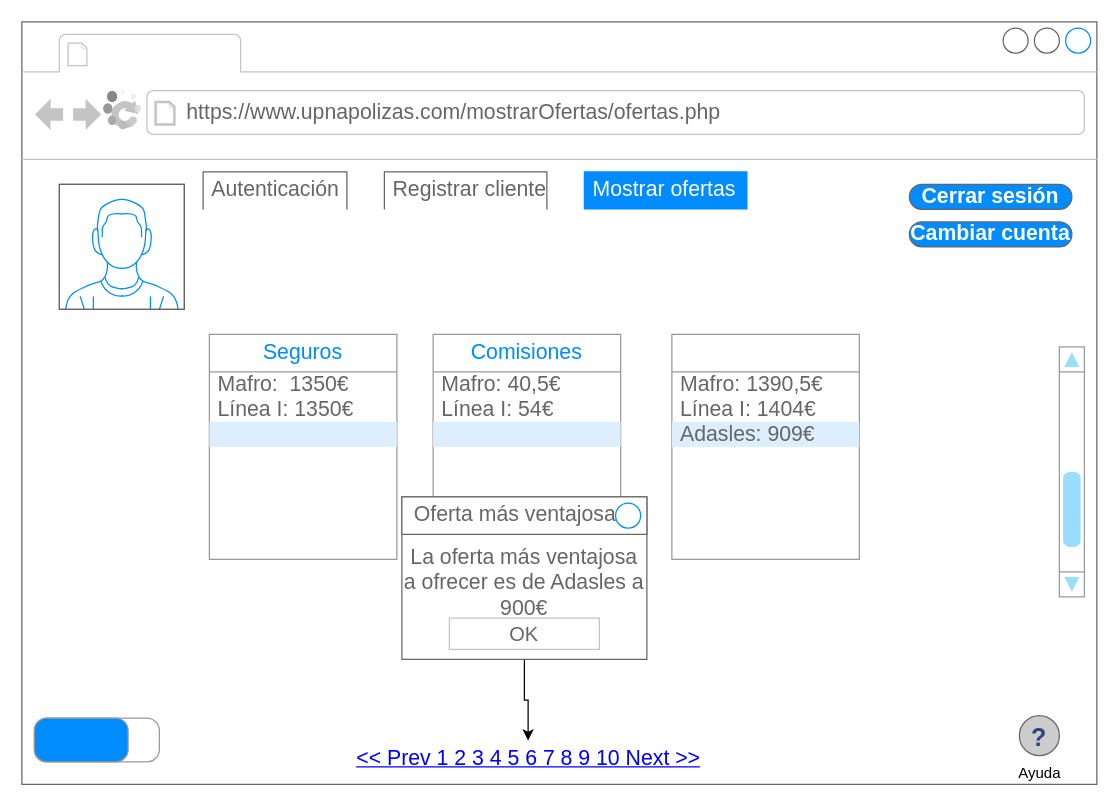
Some shapes in this 1119 by 806 pixel diagram are drawn without their labels. Here are the shapes that lost their labels. From the top down, the box of each, then its label:
(96, 36, 234, 69): UpnaPol
(58, 183, 184, 309): Bienvenido, $user
(209, 421, 396, 446): Adasles: 900€
(432, 421, 620, 446): Adasles: 9€
(671, 333, 859, 559): Total
(33, 717, 159, 762): Modo oscuro
